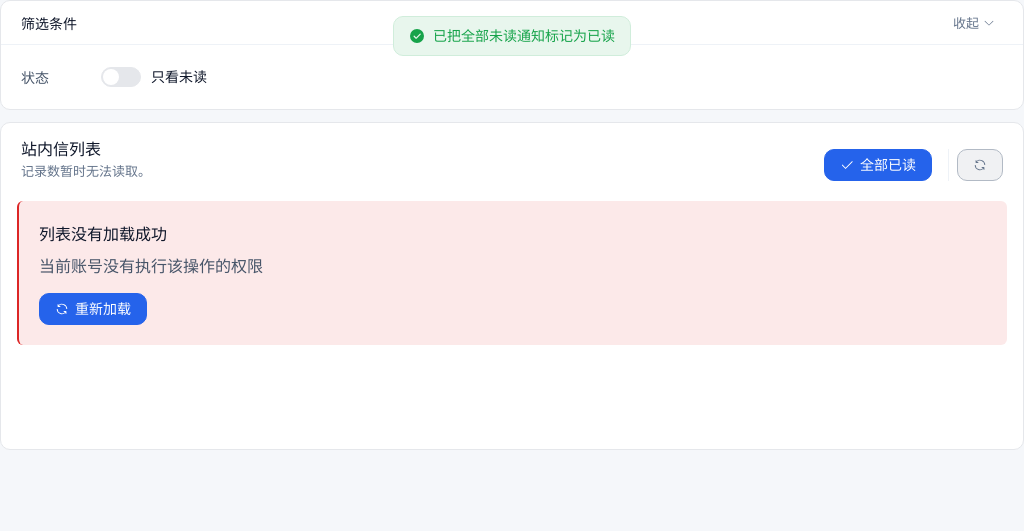
NotificationListView › 加载失败进入错误态、走稳定错误码文案并可原位重试
Check: the message "列表没有加载成功 当前账号没有执行该操作的权限 重新加载" is shown, box 17,201 -> 1007,345
What coordinates should you click on to do the following:
click the button "重新加载"
I would click on:
 (93, 309)
Its box is 39,293 -> 147,325.
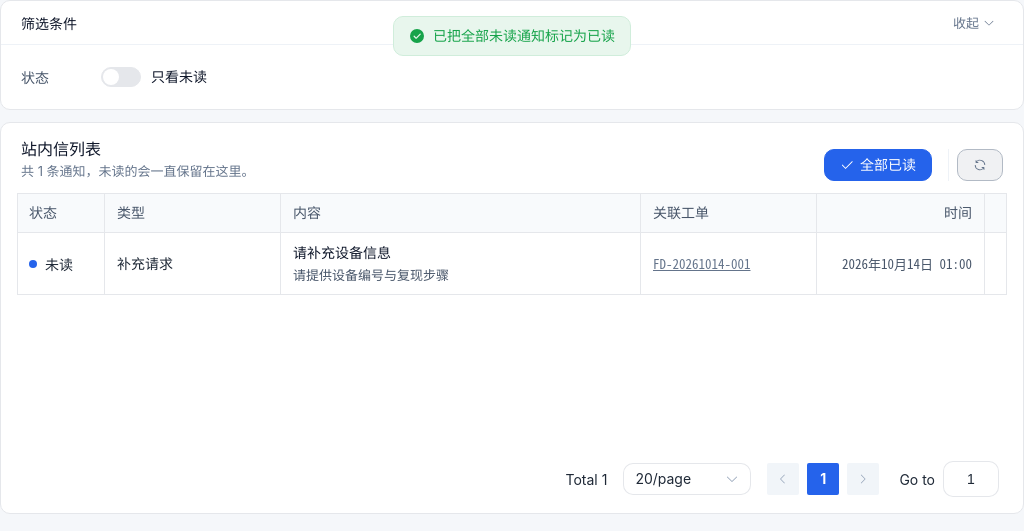
Check: the text "请补充设备信息" is shown, box 293,244 -> 391,261
